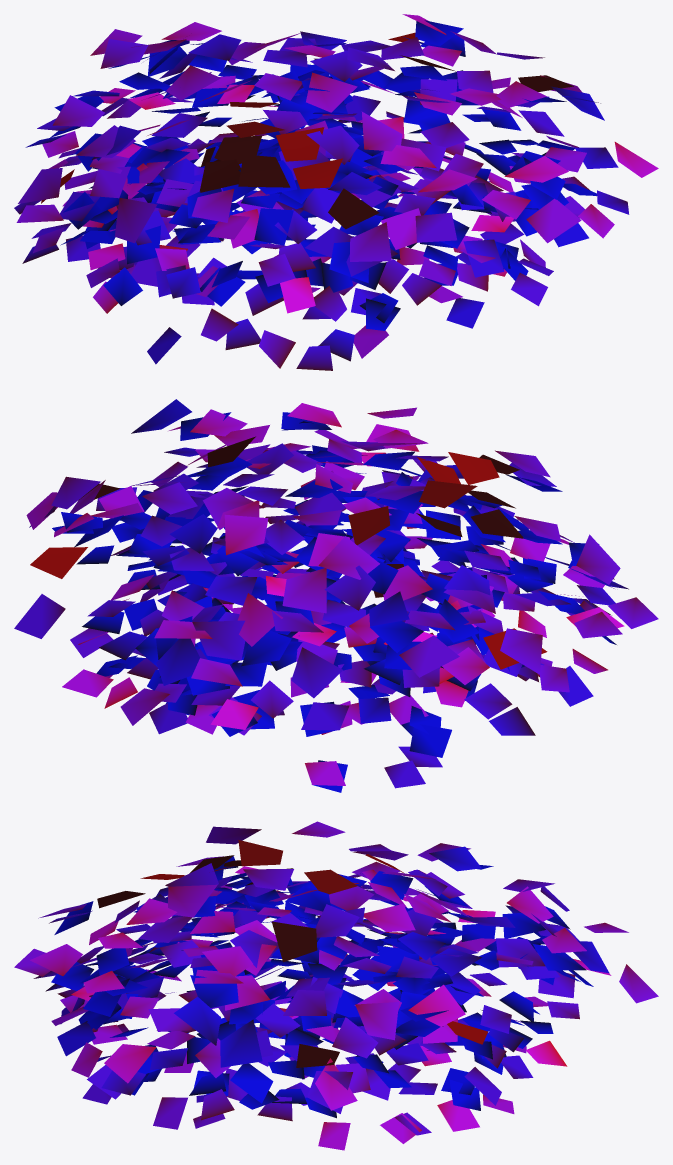
File: SmallLeavesPatch_01_2k.FBX
3 views of the same model, one above another, from view 1: azimuth 30°, elevation 25°; view 2: azimuth 150°, elevation 25°; view 3: azimuth 270°, elevation 25° (orthographic). The views are drawn at different scales.
Parts seen in each view (by area): view 1: SmallLeavesPatch_01_2k; view 2: SmallLeavesPatch_01_2k; view 3: SmallLeavesPatch_01_2k.
Part boxes in pixels (<box>): SmallLeavesPatch_01_2k: <box>14,14,658,370</box>; SmallLeavesPatch_01_2k: <box>14,399,658,792</box>; SmallLeavesPatch_01_2k: <box>14,821,658,1150</box>.
Bounding box in the file's own units: 81.84 × 27.8 × 82.27.
